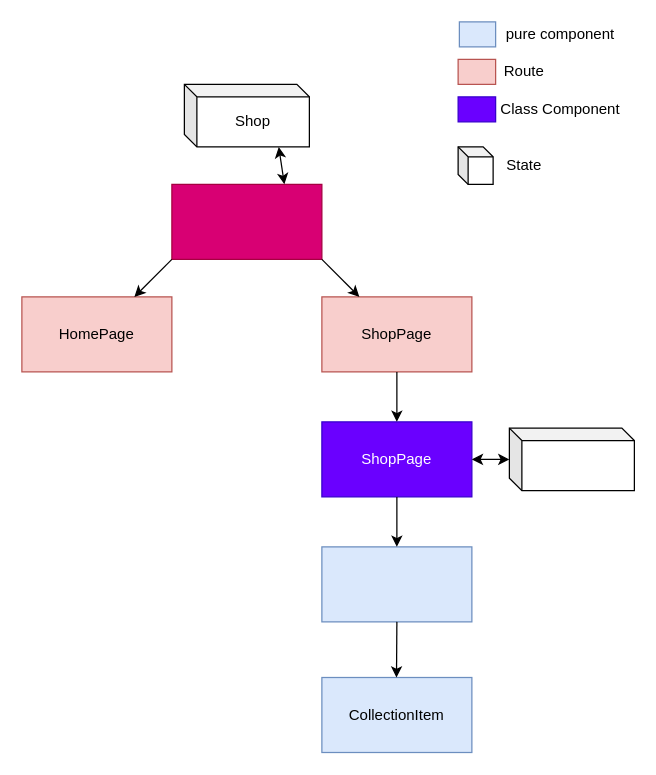
The diagram is 656 pixels wide and 775 high, and some of its shapes have lost their labels. The centre of each missing label's shape, as x and y in pixels:
App: (x=246, y=221)
CollectionPreview: (x=396, y=584)
Collections: (x=571, y=459)
